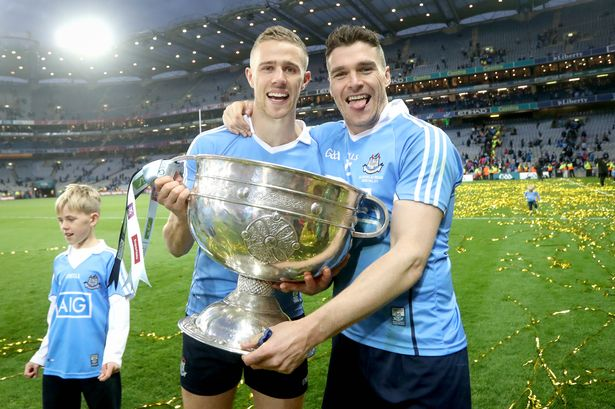player: (318, 25, 472, 406), (192, 18, 311, 403), (37, 187, 134, 401)
